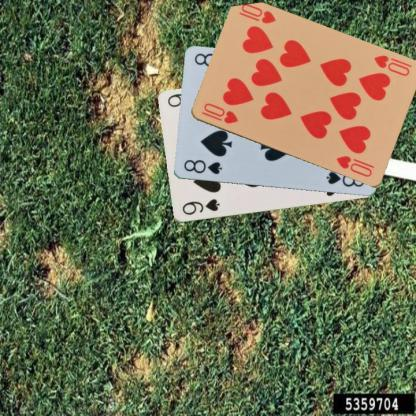10h: (199, 100, 239, 125), (371, 52, 411, 77)
8s: (181, 157, 223, 176)
9s: (179, 196, 221, 216)
